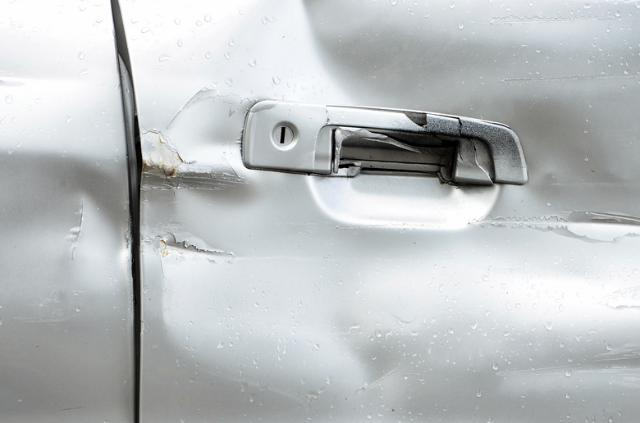Door: (118, 0, 637, 423), (31, 160, 99, 268)
